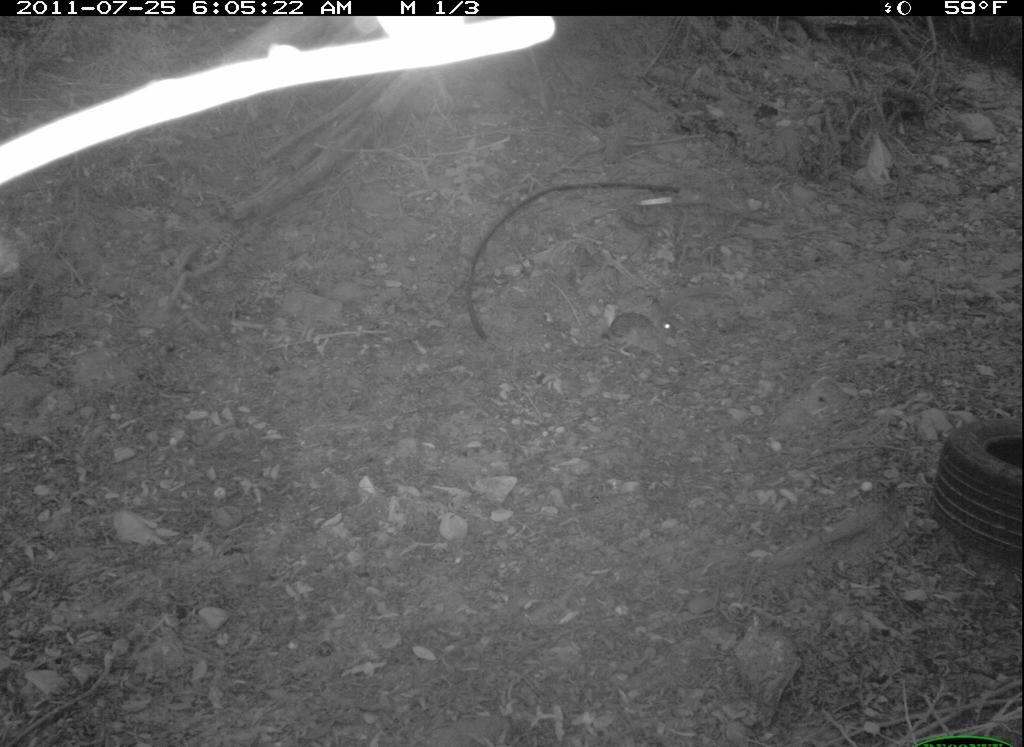rabbit: (605, 296, 681, 364)
